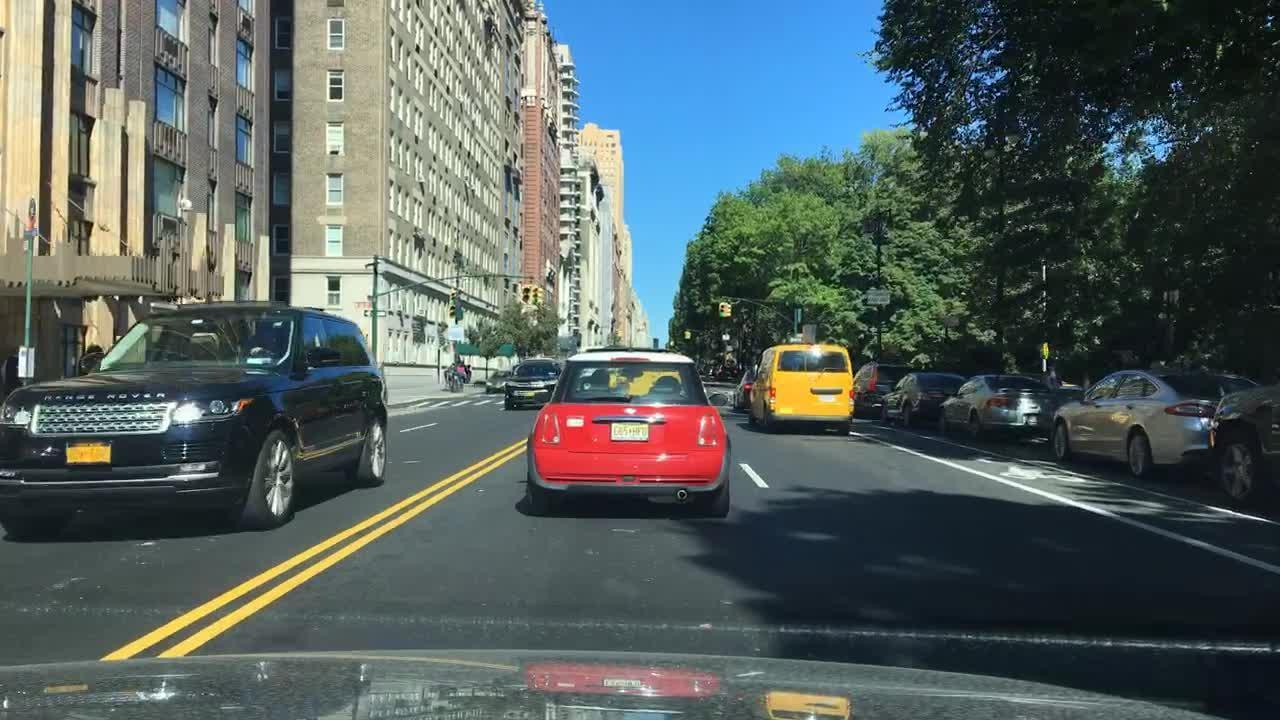range rover: (41, 389, 173, 404)
